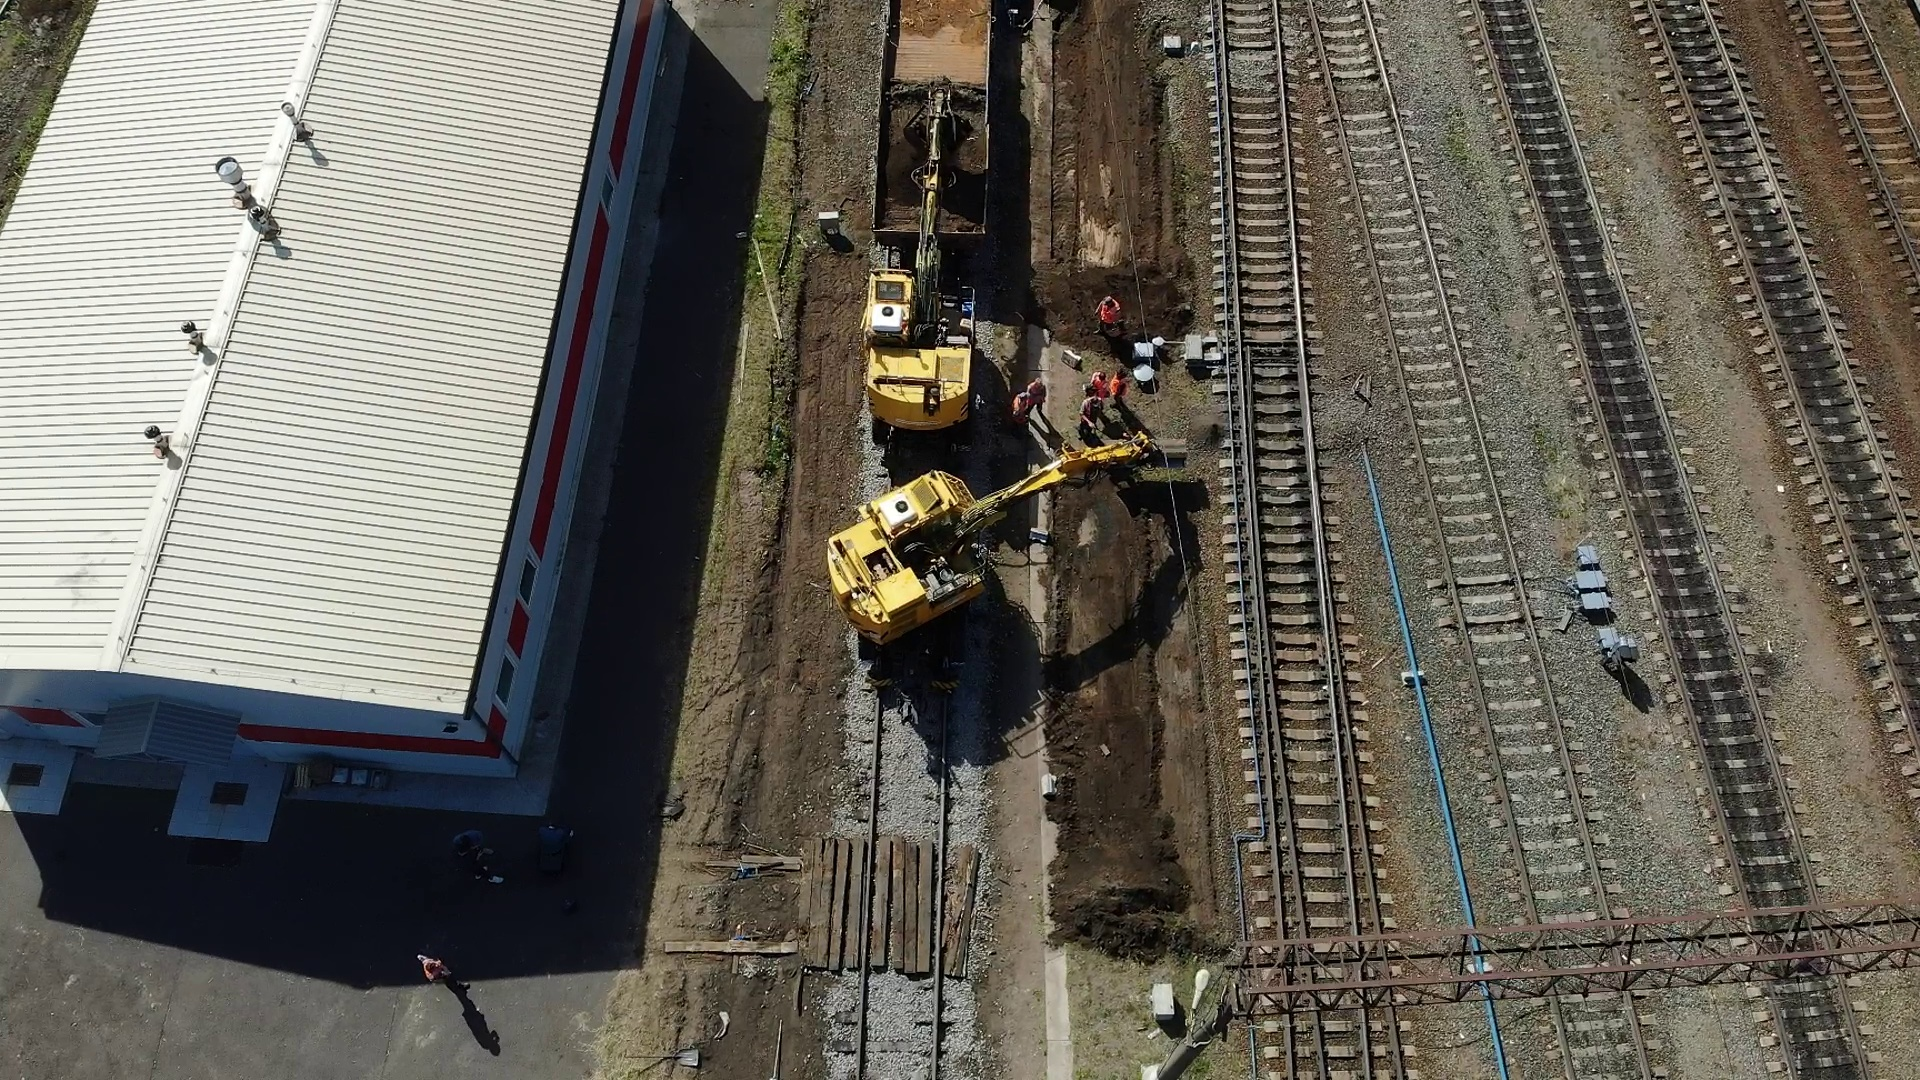kjtv: (825, 469, 1058, 684), (865, 195, 978, 444)
